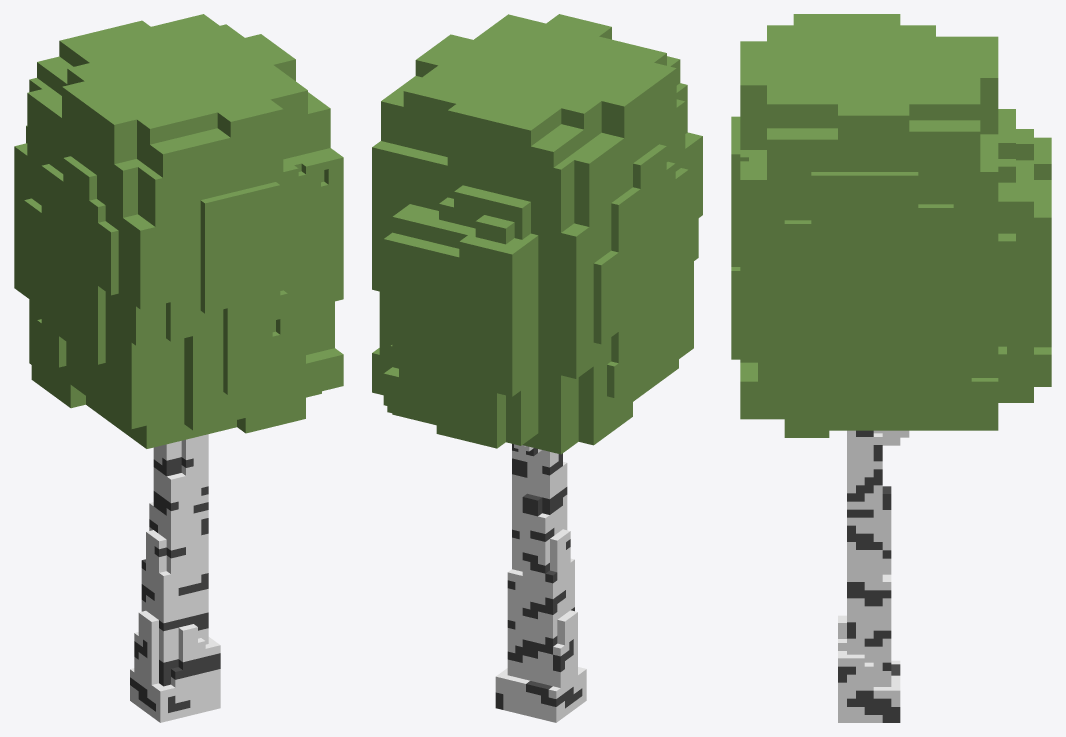
Rendered from BeesAndTrees-14.obj.
3 renders of one model, left to right at view 1: azimuth 30°, elevation 25°; view 2: azimuth 150°, elevation 25°; view 3: azimuth 270°, elevation 25°, orthographic. The views are drawn at different scales.
Bounding box in the file's own units: 2.9 × 8 × 3.6.
Materials: 1 (1 with a texture image).
